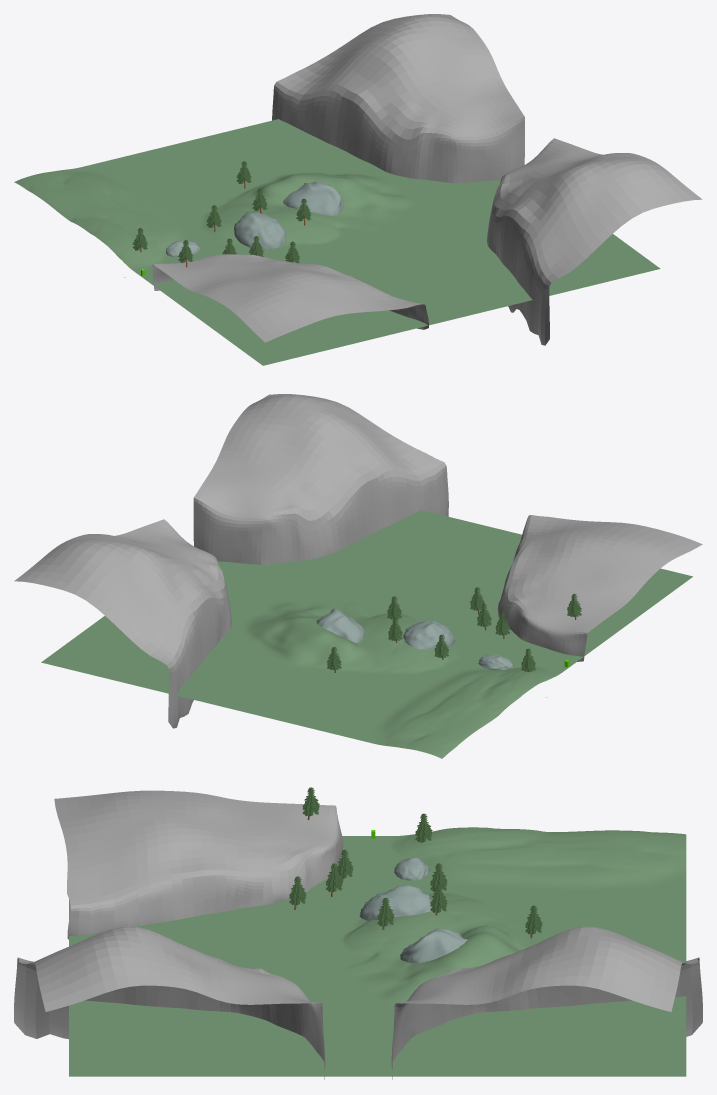
File: tosbox.fbx
3 views of the same model, one above another, from view 1: azimuth 30°, elevation 25°; view 2: azimuth 150°, elevation 25°; view 3: azimuth 270°, elevation 25° (orthographic). The views are drawn at different scales.
Parts seen in each view (by area): view 1: pCube10; view 2: pCube10; view 3: pCube10.
Boxes of the visible parts, <box> form: pCube10: <box>14,14,702,365</box>; pCube10: <box>14,394,702,758</box>; pCube10: <box>14,787,702,1079</box>.
Size of the model in its own units: 24.8 by 7.28 by 27.42.
